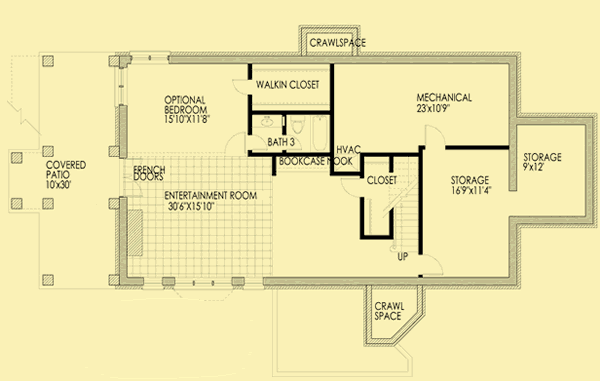door: (418, 251, 444, 279), (423, 123, 448, 152), (220, 130, 250, 154), (339, 175, 362, 197), (230, 77, 252, 96)
large_sink: (287, 114, 308, 135)
small_sink: (251, 114, 286, 128)
stairs: (389, 154, 421, 256)
tub: (310, 113, 330, 152)
window: (115, 67, 131, 106), (129, 52, 173, 65)
